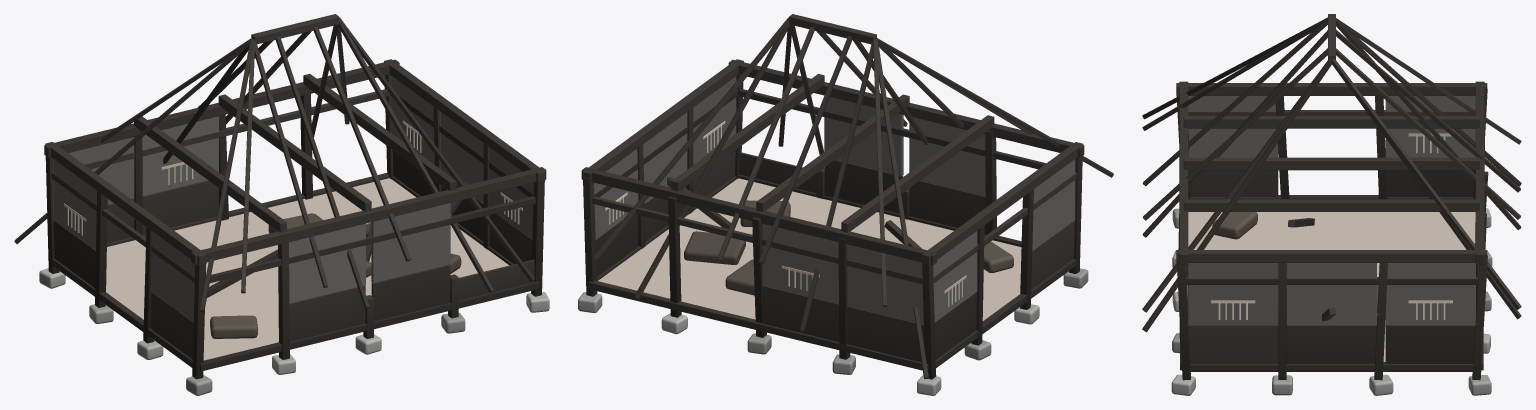
File: minka_burnt_a.glb
3 renders of one model, left to right at view 1: azimuth 30°, elevation 25°; view 2: azimuth 150°, elevation 25°; view 3: azimuth 270°, elevation 25°, orthographic.
Visible parts, largest first — view 1: minka_burnt_a; view 2: minka_burnt_a; view 3: minka_burnt_a.
Boxes of the visible parts, bbox=[...] form: minka_burnt_a: bbox=[14, 14, 549, 395]; minka_burnt_a: bbox=[578, 14, 1113, 395]; minka_burnt_a: bbox=[1142, 14, 1521, 395].
Bounding box in the file's own units: 8.97 × 6.12 × 7.69.
